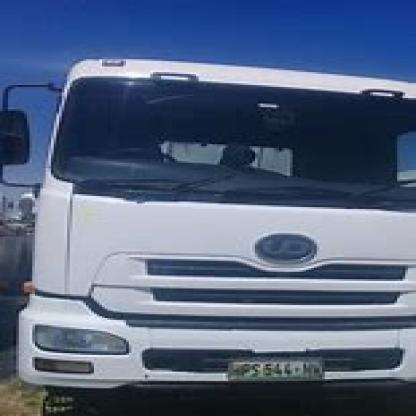dump_truck: (6, 39, 414, 414)
